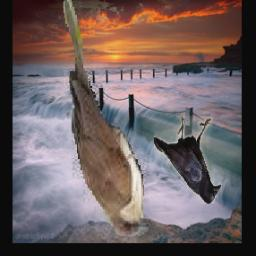Crow: (154, 117, 222, 205)
Cuckoo: (63, 0, 149, 237)
